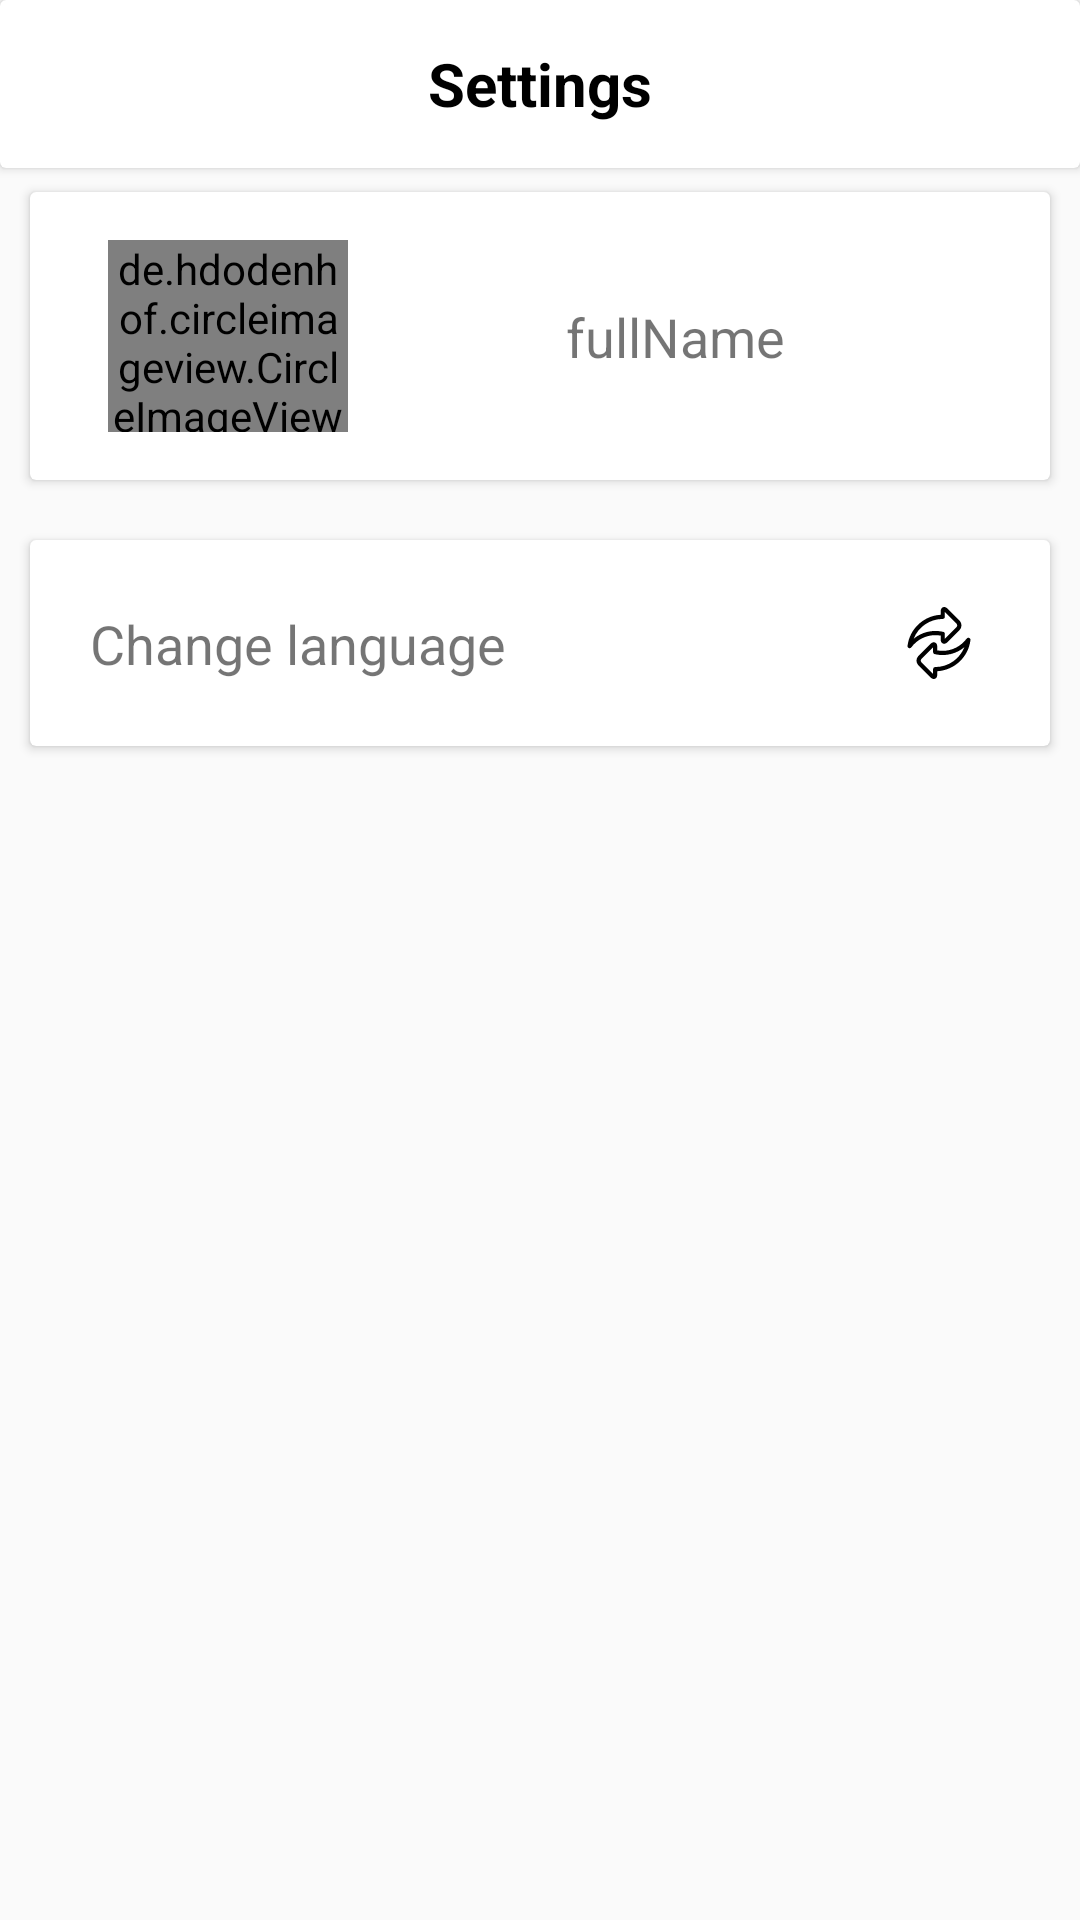

Icons on this 1080px x 1920px Android screen, each with the point to tap as [x,y]:
change: [939,643]
